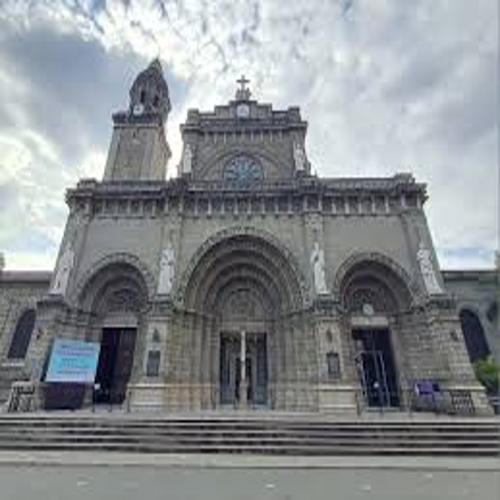Manila Cathedral Church: (22, 38, 476, 435)
